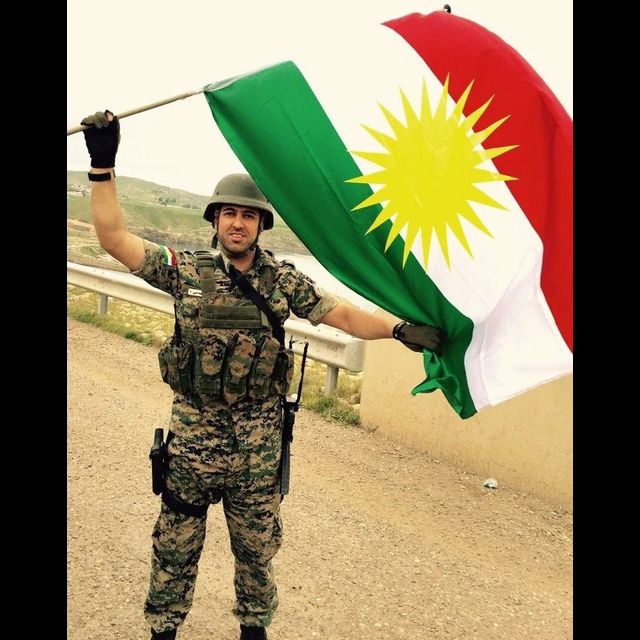IBKY: (323, 44, 547, 286)
